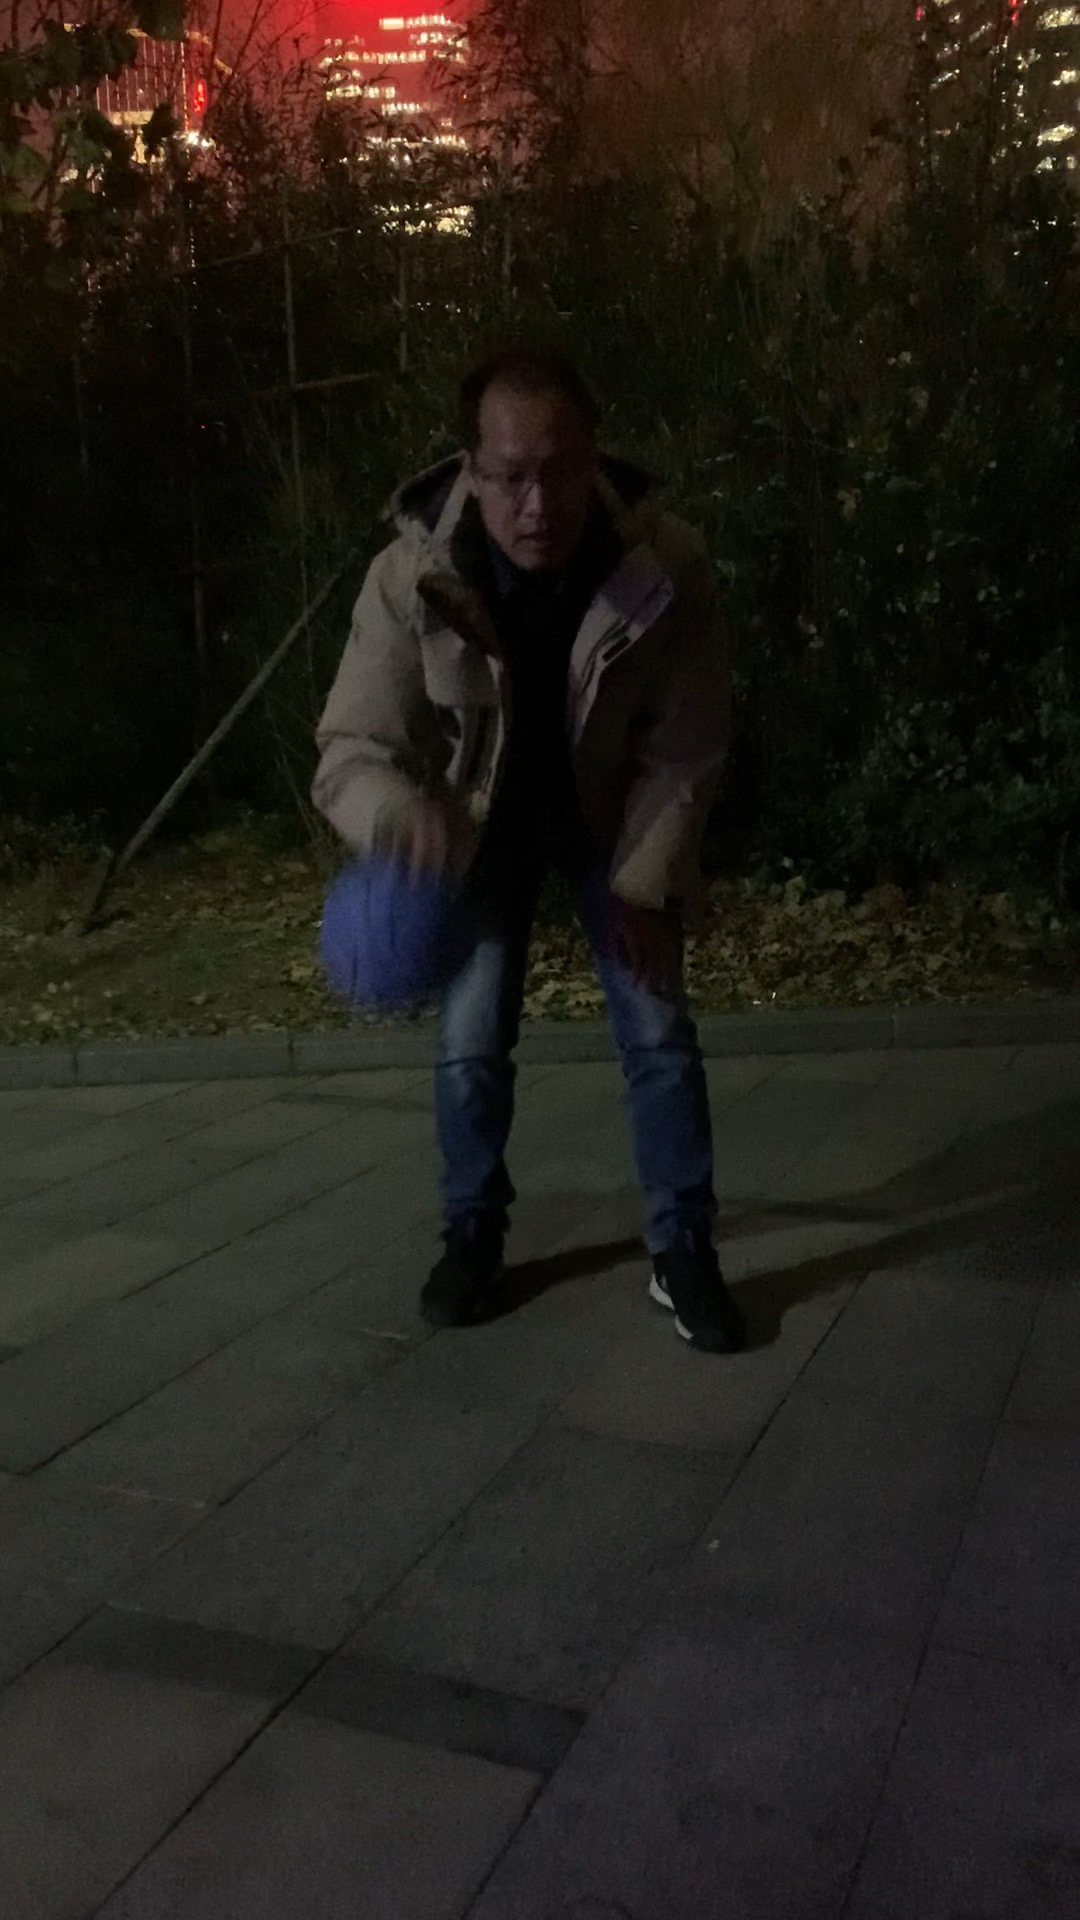ball: (309, 858, 481, 998)
